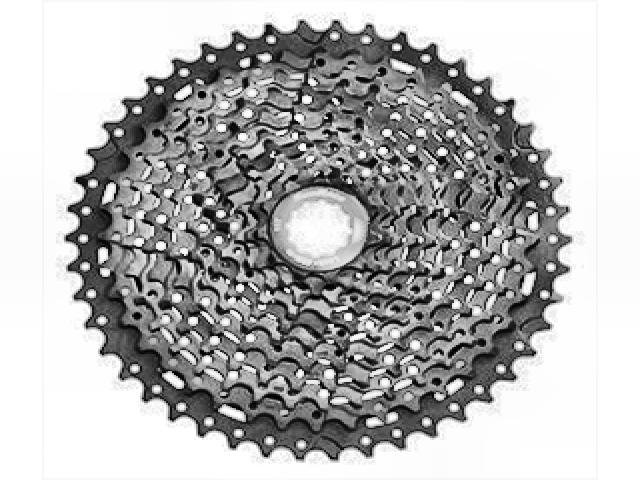cassette: (66, 15, 571, 461)
